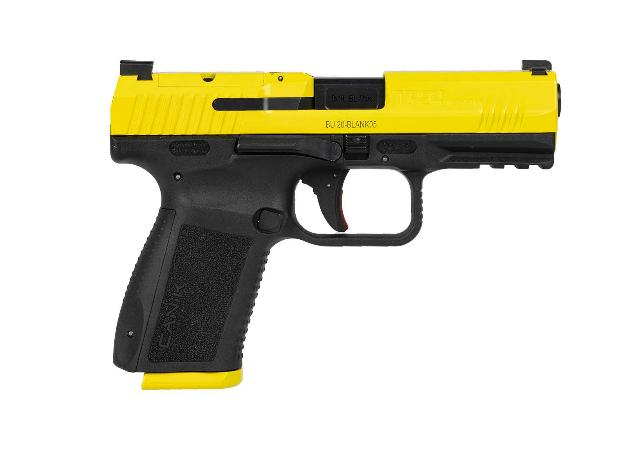handgun: (103, 51, 565, 395)
